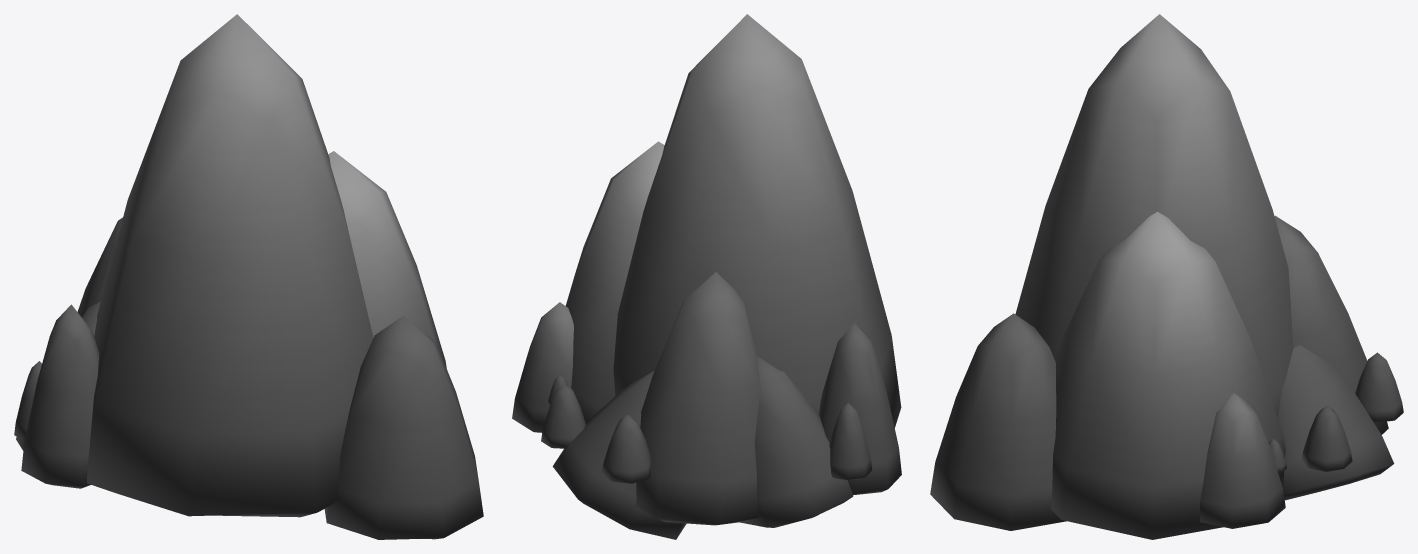
Rendered from Variation_01.fbx.
The picture shows the model from 3 angles, left to right: view 1: azimuth 30°, elevation 25°; view 2: azimuth 150°, elevation 25°; view 3: azimuth 270°, elevation 25°; orthographic projection. The views are drawn at different scales.
Visible parts, largest first — view 1: Cylinder.063, Cylinder.020, Cylinder.066, Cylinder.062, Cylinder.028, Cylinder.065; view 2: Cylinder.063, Cylinder.028, Cylinder.062, Cylinder.064, Cylinder.066, Cylinder.058, Cylinder.061, Cylinder.057, Cylinder.065, Cylinder.059; view 3: Cylinder.062, Cylinder.063, Cylinder.020, Cylinder.058, Cylinder.061, Cylinder.028, Cylinder.059, Cylinder.057.
Boxes of the visible parts, left/top/right/bottom form: Cylinder.063: left=87, top=14, right=373, bottom=517; Cylinder.020: left=324, top=315, right=483, bottom=539; Cylinder.066: left=21, top=304, right=99, bottom=488; Cylinder.062: left=328, top=151, right=446, bottom=368; Cylinder.028: left=77, top=217, right=122, bottom=317; Cylinder.065: left=14, top=361, right=41, bottom=440; Cylinder.063: left=613, top=14, right=901, bottom=427; Cylinder.028: left=636, top=272, right=760, bottom=525; Cylinder.062: left=565, top=141, right=664, bottom=422; Cylinder.064: left=740, top=356, right=853, bottom=527; Cylinder.066: left=819, top=323, right=901, bottom=494; Cylinder.058: left=552, top=371, right=686, bottom=539; Cylinder.061: left=512, top=302, right=573, bottom=432; Cylinder.057: left=601, top=414, right=650, bottom=483; Cylinder.065: left=829, top=402, right=872, bottom=479; Cylinder.059: left=541, top=384, right=585, bottom=448; Cylinder.062: left=1051, top=212, right=1285, bottom=539; Cylinder.063: left=1015, top=14, right=1293, bottom=417; Cylinder.020: left=930, top=313, right=1066, bottom=530; Cylinder.058: left=1278, top=345, right=1394, bottom=500; Cylinder.061: left=1200, top=393, right=1285, bottom=528; Cylinder.028: left=1274, top=215, right=1388, bottom=434; Cylinder.059: left=1301, top=405, right=1352, bottom=471; Cylinder.057: left=1355, top=352, right=1403, bottom=422.
Size of the model in its own units: 1012 by 1220 by 1097.
